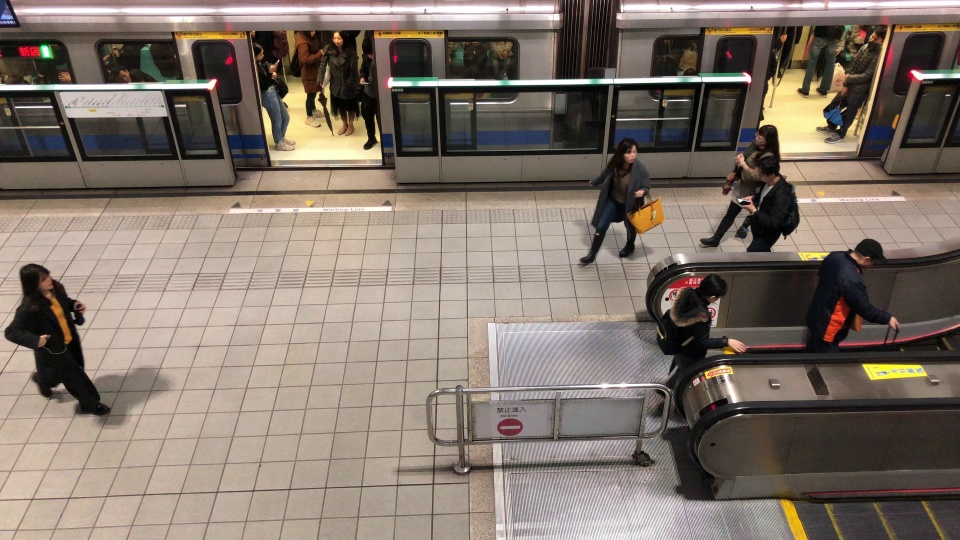person_head: (16, 263, 55, 299), (849, 238, 888, 272), (695, 273, 728, 309), (750, 123, 779, 157), (757, 155, 778, 186), (613, 139, 638, 164), (864, 26, 886, 50), (360, 36, 377, 61), (250, 42, 266, 61), (329, 31, 344, 47), (300, 28, 317, 40)
person_vbox: (1, 262, 113, 422), (648, 272, 747, 418), (801, 238, 901, 357), (696, 123, 779, 249), (577, 137, 652, 270), (815, 26, 889, 145), (737, 157, 802, 258), (245, 41, 297, 153), (317, 29, 362, 137), (356, 36, 390, 152), (289, 26, 326, 129)
